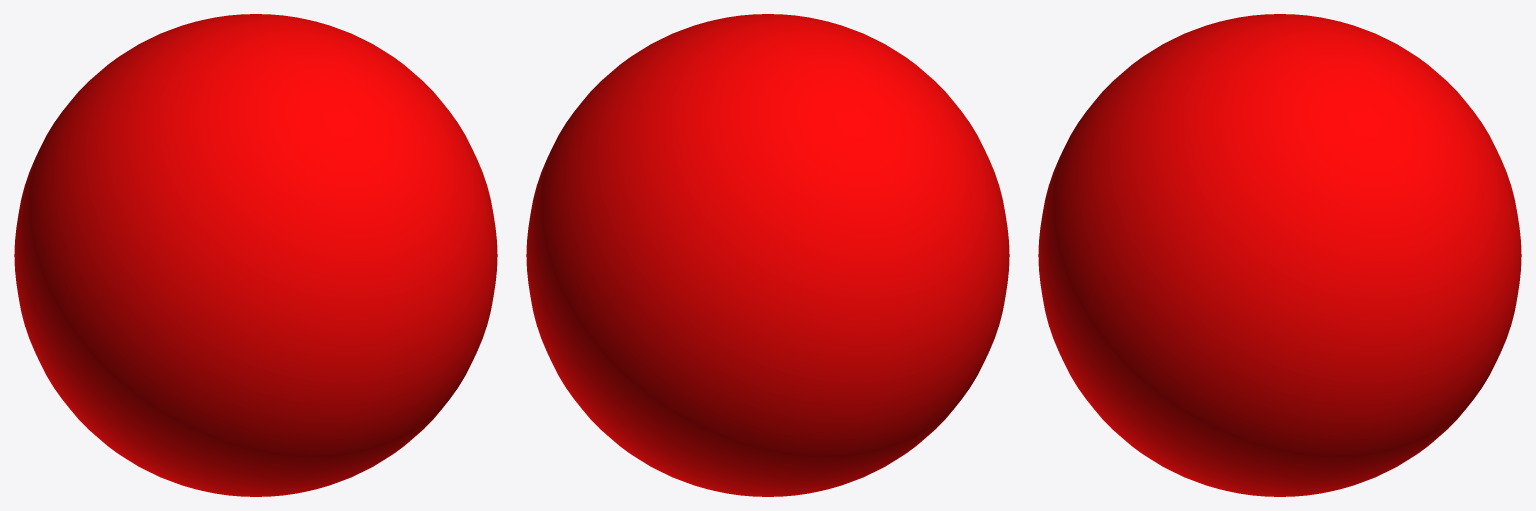
File: ball_red.gltf
3 renders of one model, left to right at view 1: azimuth 30°, elevation 25°; view 2: azimuth 150°, elevation 25°; view 3: azimuth 270°, elevation 25°, orthographic.
Visible parts, largest first — view 1: Object_4; view 2: Object_4; view 3: Object_4.
Boxes of the visible parts, x1,y1,x2,y2 form: Object_4: (14, 14, 497, 496); Object_4: (526, 14, 1009, 496); Object_4: (1038, 14, 1521, 496).
Size of the model in its own units: 2 by 2 by 2.
